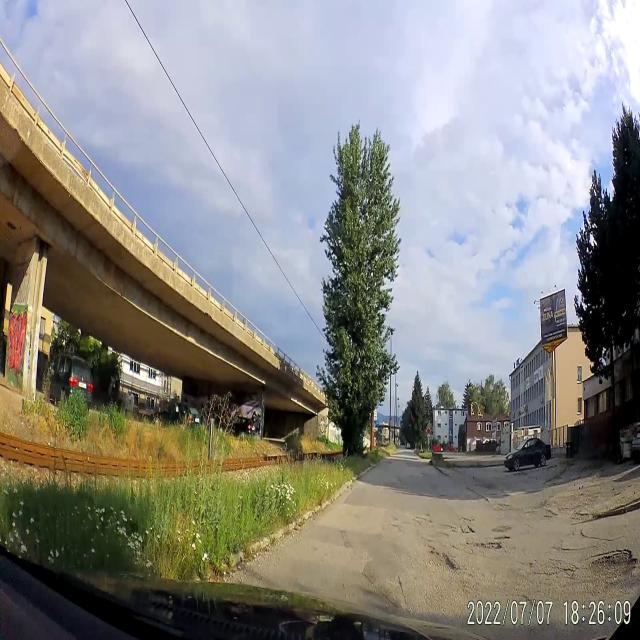Manhole: (489, 520, 512, 542), (433, 520, 453, 535), (427, 532, 452, 542)
Pothole: (581, 544, 640, 592), (430, 549, 460, 583), (459, 536, 502, 556), (458, 514, 478, 534)
